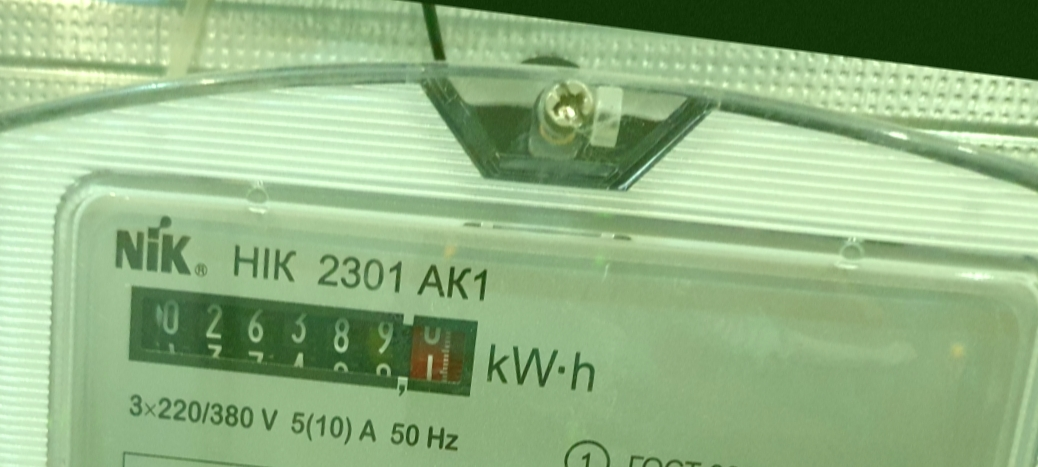0: (158, 295, 185, 337), (422, 323, 443, 346)
1: (422, 350, 439, 382)
2: (202, 299, 230, 341)
3: (289, 309, 310, 346)
6: (245, 304, 268, 345)
8: (330, 314, 356, 354)
9: (374, 319, 396, 355)
screen: (108, 264, 497, 416)
